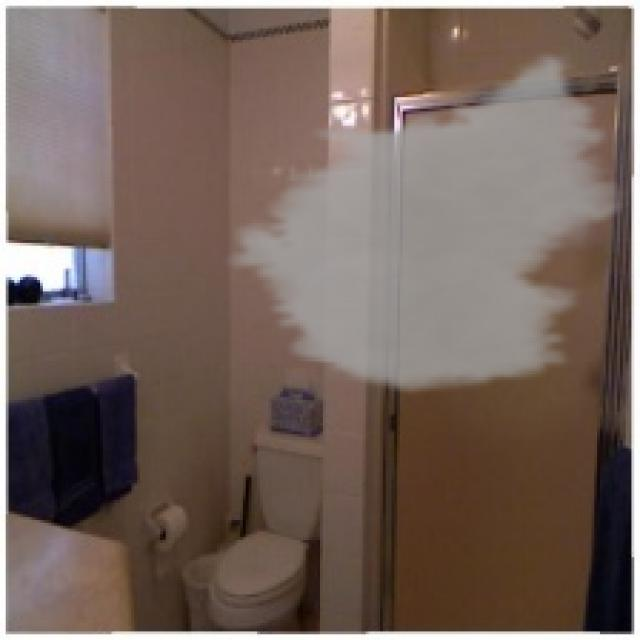smoke: (220, 52, 637, 397)
